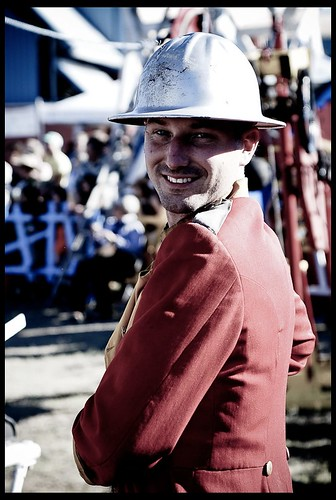person hardhat: (92, 25, 310, 488)
